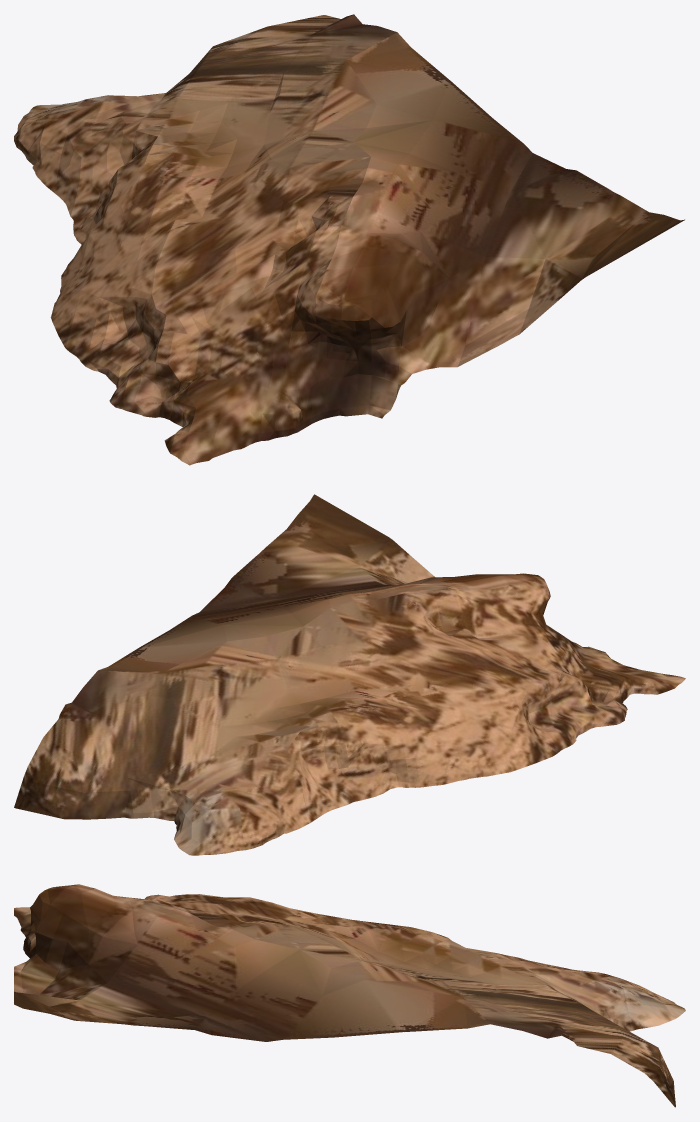
The picture shows the model from 3 angles, top to bottom: view 1: azimuth 30°, elevation 25°; view 2: azimuth 150°, elevation 25°; view 3: azimuth 270°, elevation 25°; orthographic projection. The views are drawn at different scales.
Bounding box in the file's own units: 1.19 × 0.2873 × 1.69.
Materials: 1 (1 with a texture image).
